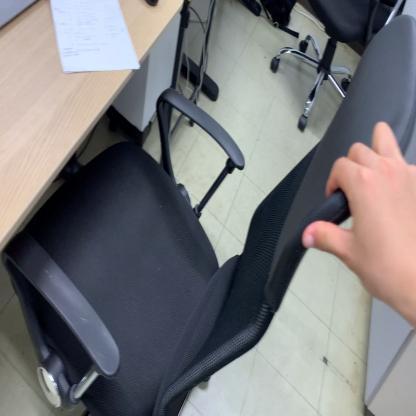chair: (2, 15, 416, 416), (268, 0, 405, 132)
